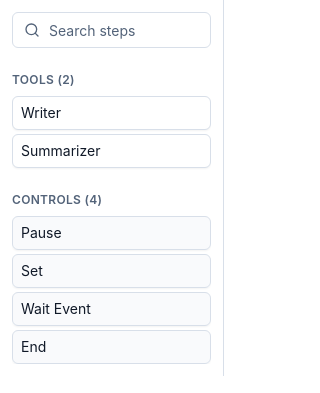
Test: BuilderPalette search › shows a no-matches line when nothing matches
Step 1. Type "zzz" into the search field labelled "Search steps" → (112, 30), box x1=12 y1=12 x2=211 y2=48
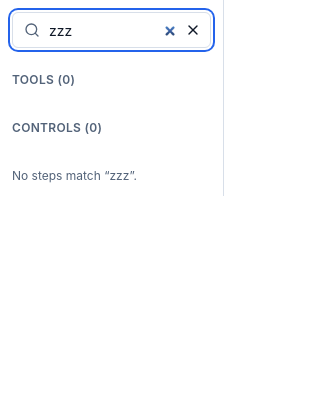
Check: the text "No steps match “zzz”." is shown, box x1=12 y1=168 x2=137 y2=183
